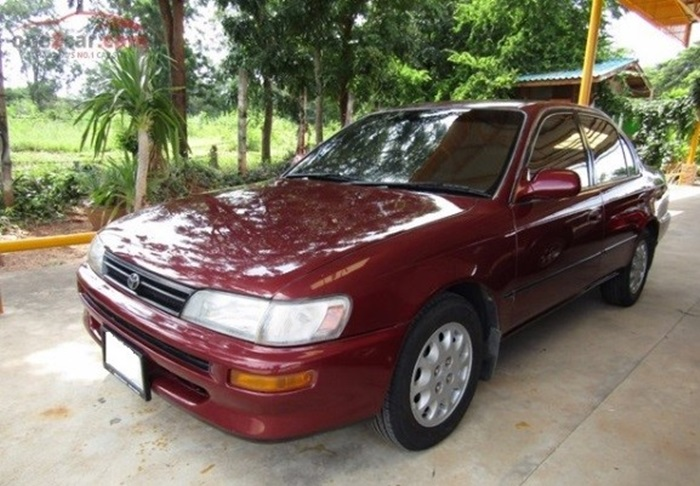sedan: (76, 100, 672, 452)
